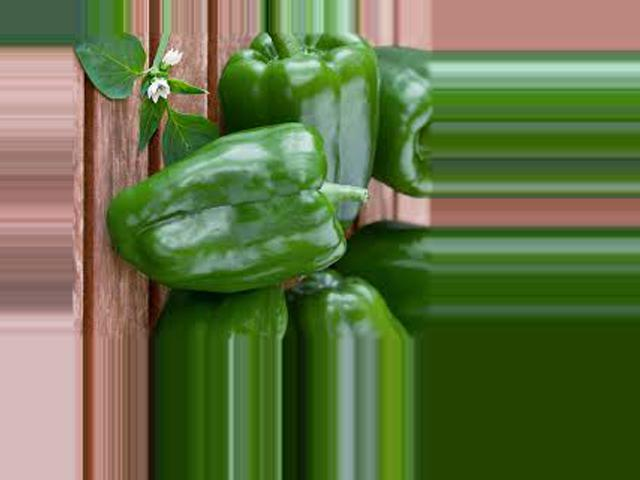bell_pepper: (306, 263, 417, 341)
